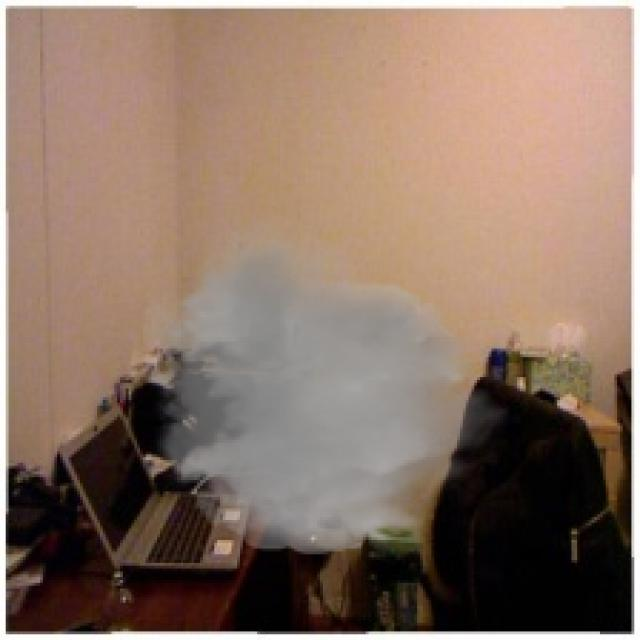smoke: (126, 214, 517, 563)
